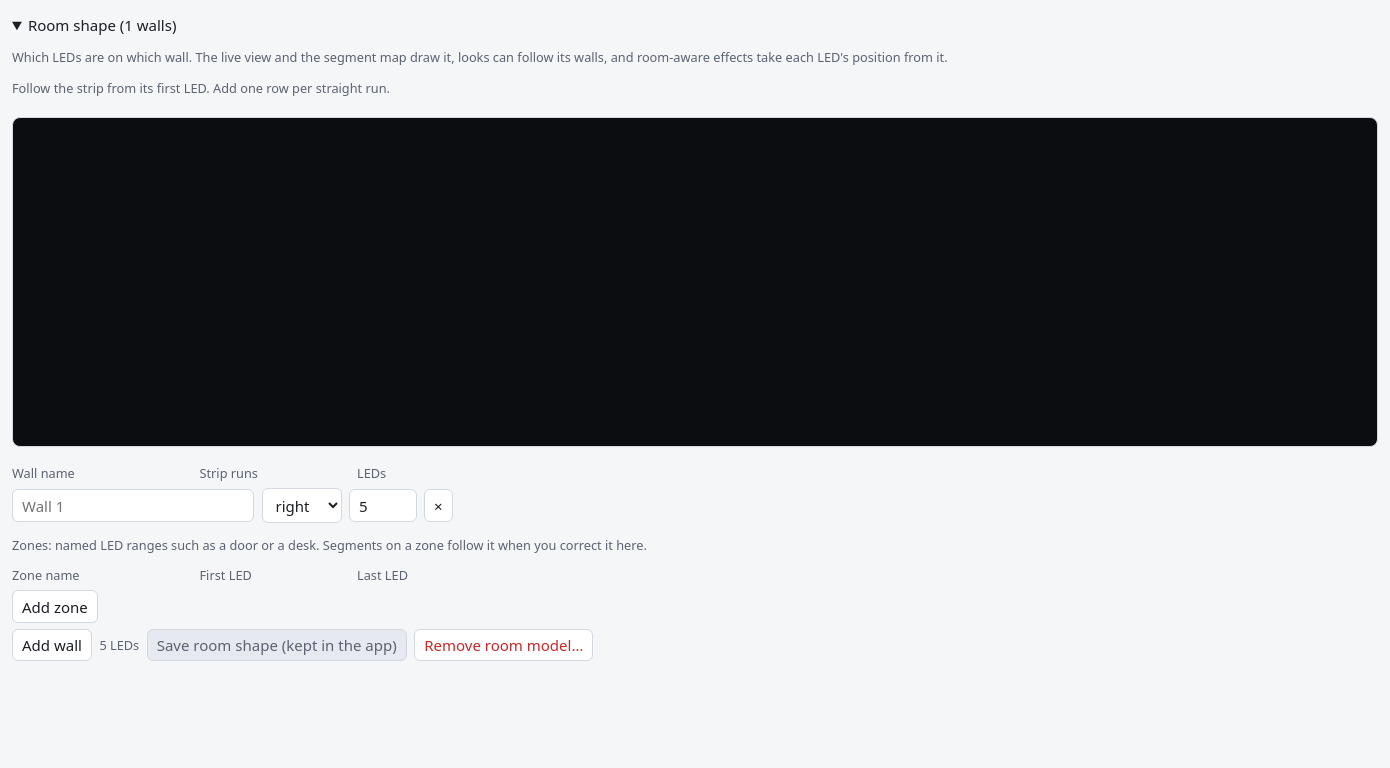
Test: unsaved room edits ask before discard
Replace the text in the field named "Wall 1 LEDs" with "8" at (383, 506), box x1=349 y1=489 x2=416 y2=522
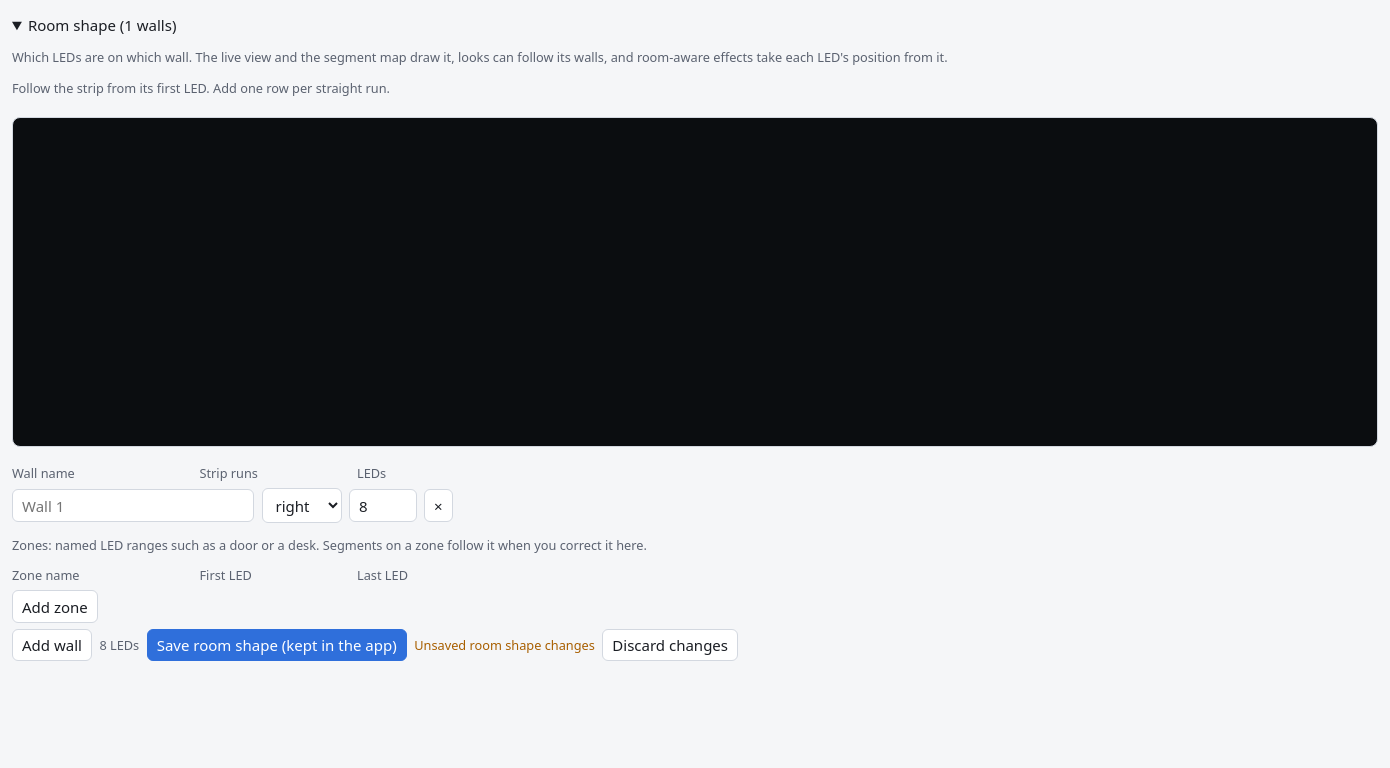
Check: the text "Unsaved room shape changes" is shown, box x1=414 y1=636 x2=595 y2=654
Click the button "Discard changes" at (670, 645), box x1=602 y1=629 x2=738 y2=661
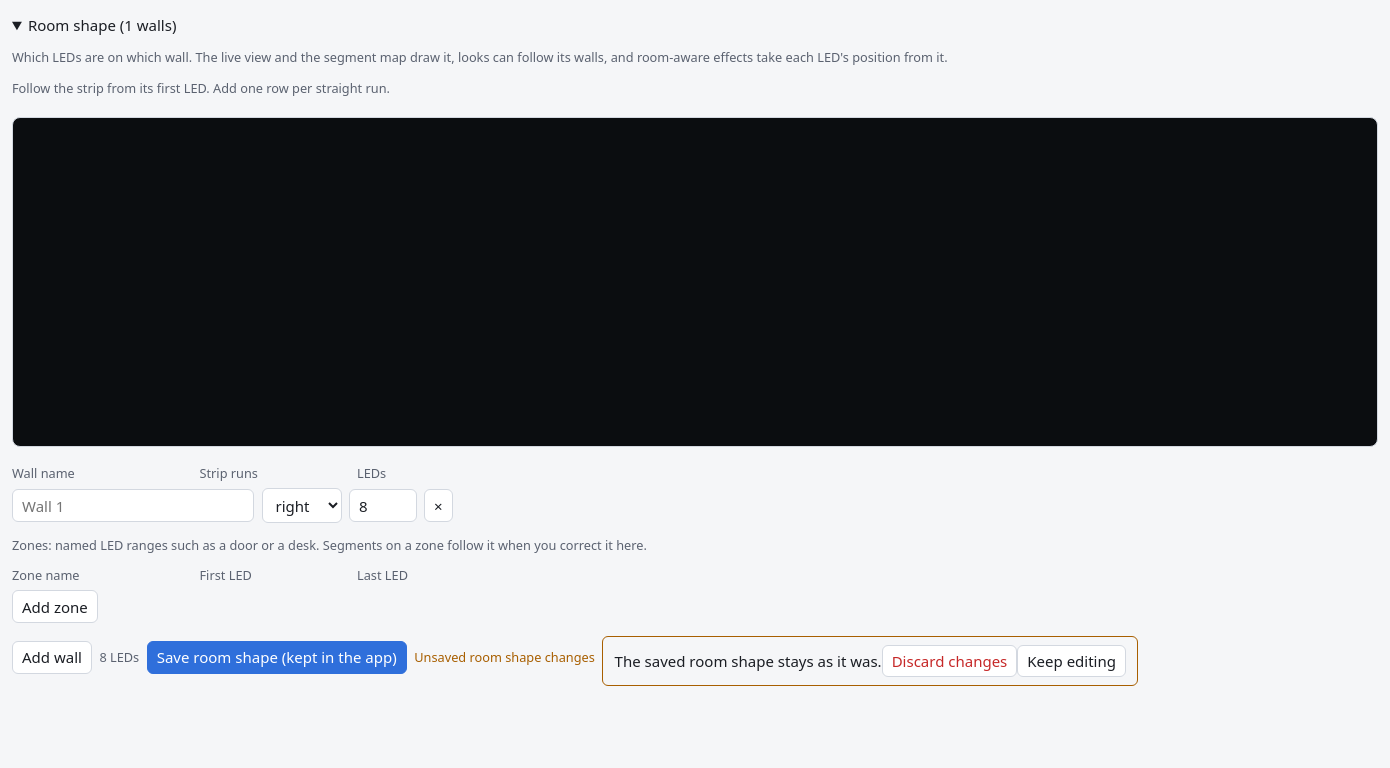
Check: the element named "Discard room shape changes?" is shown, box x1=602 y1=636 x2=1138 y2=686
Click the button "Discard changes" at (949, 661), box x1=882 y1=645 x2=1017 y2=677
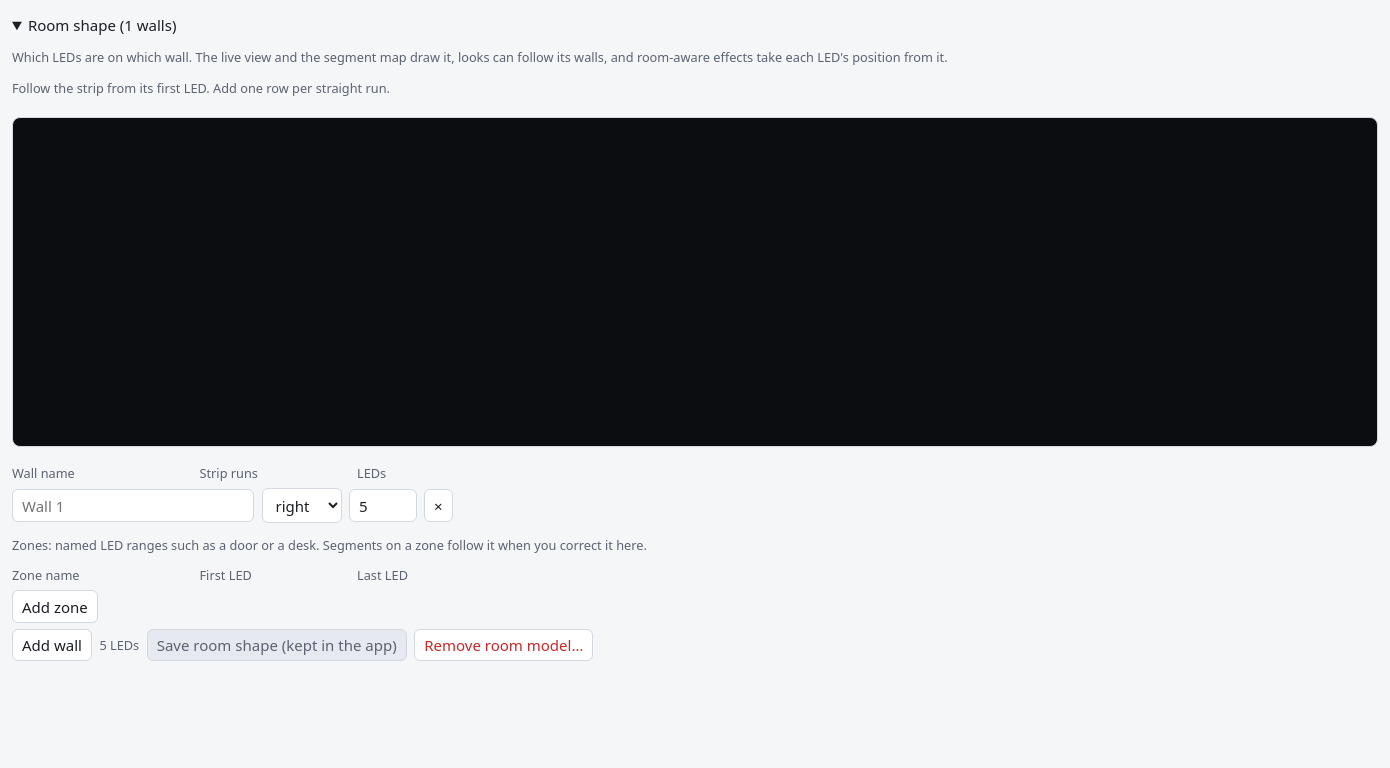
Check: the field named "Wall 1 LEDs" holds "5", box x1=349 y1=489 x2=416 y2=522
